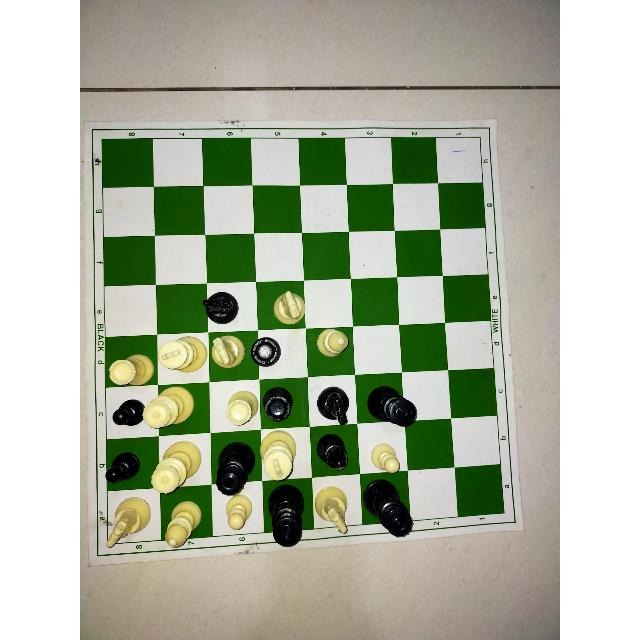black-bishop: (316, 435, 352, 471)
black-king: (264, 489, 304, 545), (369, 383, 417, 429)
black-knight: (315, 388, 353, 426), (203, 289, 235, 324)
black-pawn: (105, 452, 137, 484), (113, 399, 143, 430)
black-queen: (364, 484, 413, 544), (215, 438, 253, 496)
black-rook: (266, 388, 292, 424), (251, 334, 279, 367)
white-bishop: (164, 502, 200, 549), (317, 325, 348, 358)
white-king: (158, 335, 204, 374), (260, 431, 294, 482)
white-knight: (104, 494, 146, 550), (103, 494, 144, 551), (316, 489, 348, 539), (273, 289, 304, 327), (213, 333, 243, 368)
white-pawn: (225, 494, 256, 532), (369, 442, 402, 476)
white-queen: (149, 439, 194, 495), (143, 384, 193, 432)
white-rook: (108, 349, 152, 388), (223, 386, 256, 428)
